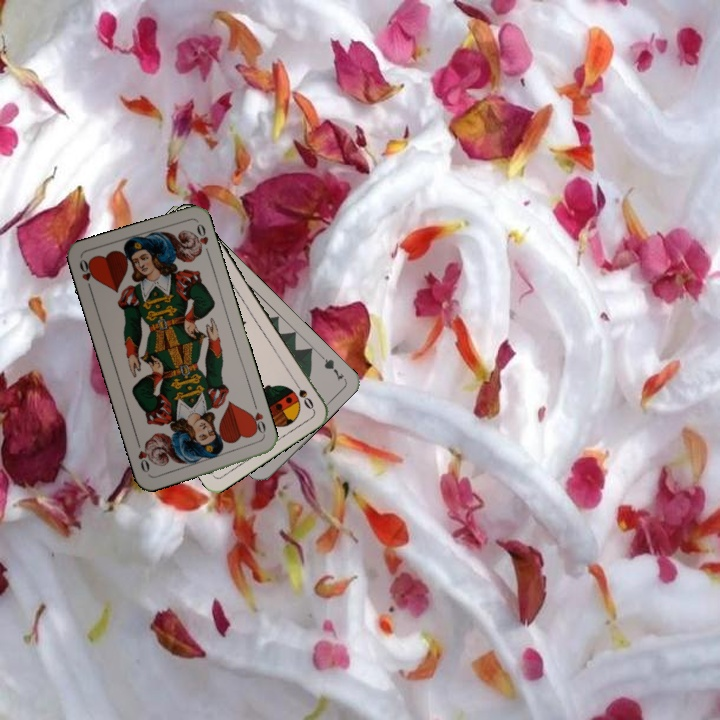G7: (314, 349, 347, 384)
HO: (245, 399, 268, 440), (75, 255, 98, 295)
SO: (289, 376, 316, 412)
